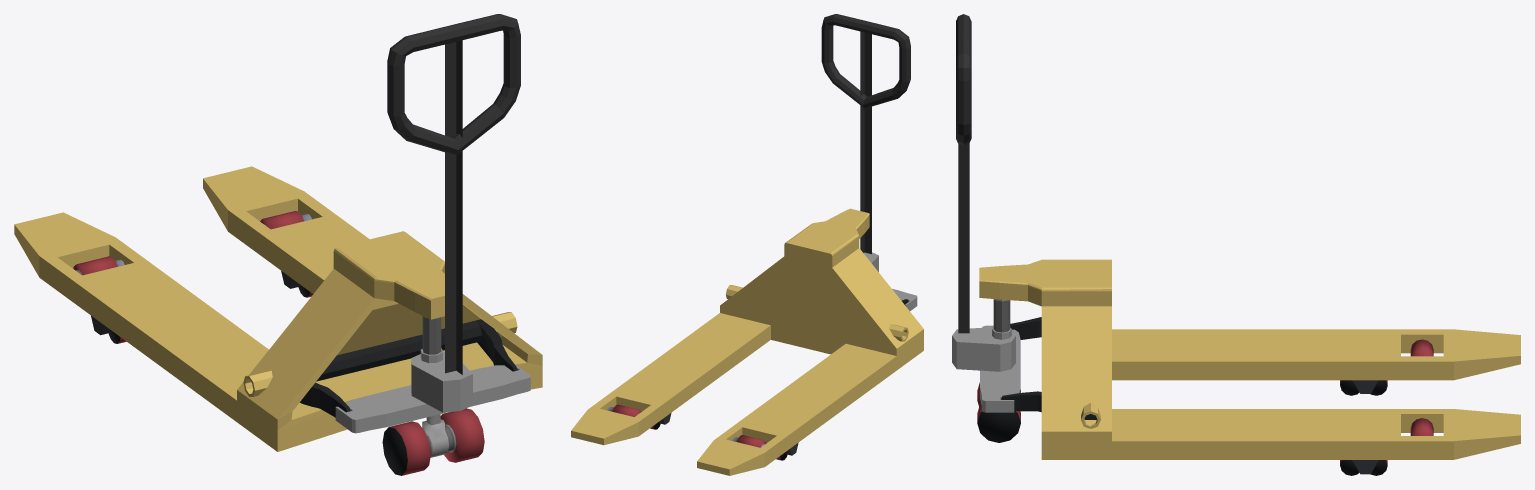
File: Pallet_Jack_01.fbx
3 views of the same model, side by side, from view 1: azimuth 30°, elevation 25°; view 2: azimuth 150°, elevation 25°; view 3: azimuth 270°, elevation 25° (orthographic). The views are drawn at different scales.
Parts seen in each view (by area): view 1: Pallet_Jack; view 2: Pallet_Jack; view 3: Pallet_Jack.
Boxes of the visible parts, left/top/right/bottom form: Pallet_Jack: left=14, top=14, right=542, bottom=475; Pallet_Jack: left=571, top=14, right=923, bottom=475; Pallet_Jack: left=952, top=14, right=1520, bottom=475.
Size of the model in its own units: 0.7413 by 1.22 by 1.59.
